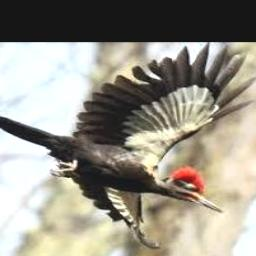Woodpecker: (0, 42, 256, 248)
